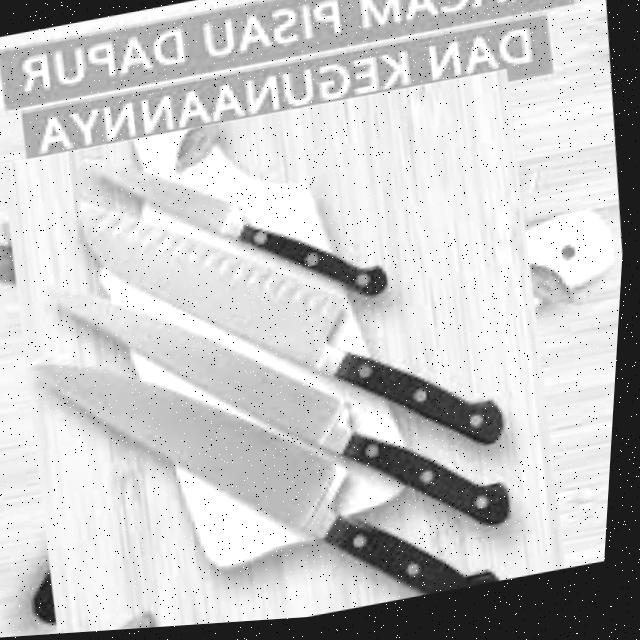knife: (32, 211, 533, 611), (0, 283, 531, 638), (60, 124, 527, 526), (72, 108, 403, 354)
